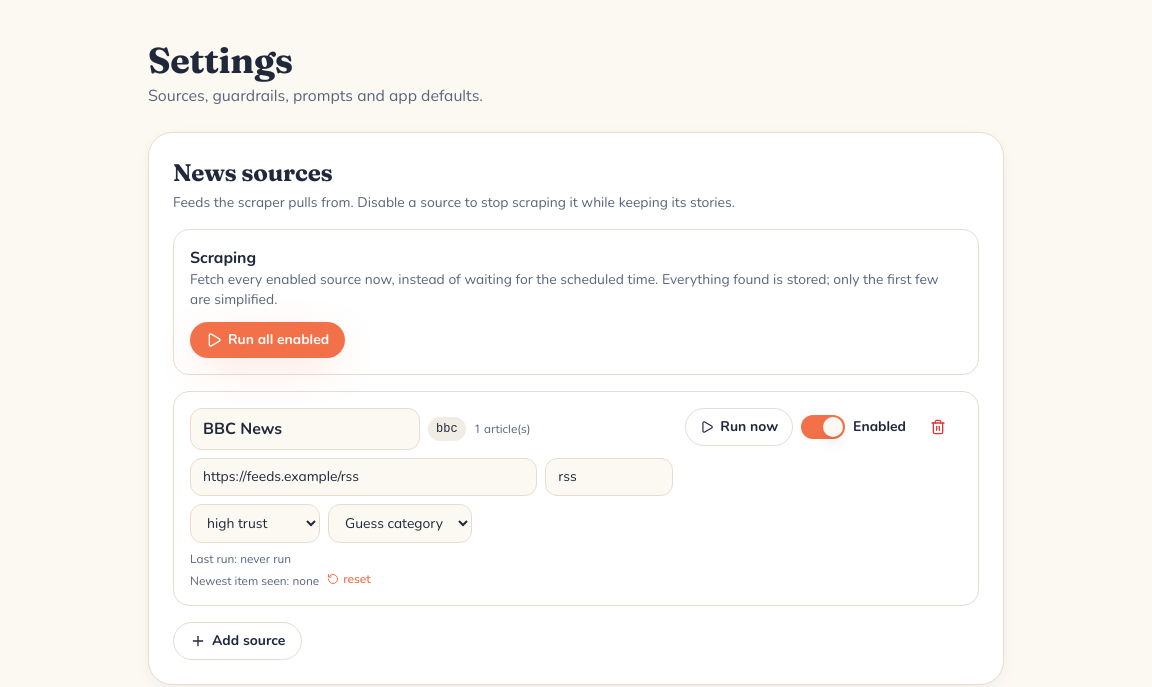
Scenario: settings, server unreachable › toggling a source reports the failure
This screenshot has width=1152, height=687.
Check: the field showing "BBC News" is shown, box top-left (190, 408), bottom-right (420, 450)
Click the switch named "Enable BBC News" at (823, 427), box top-left (801, 415), bottom-right (845, 439)
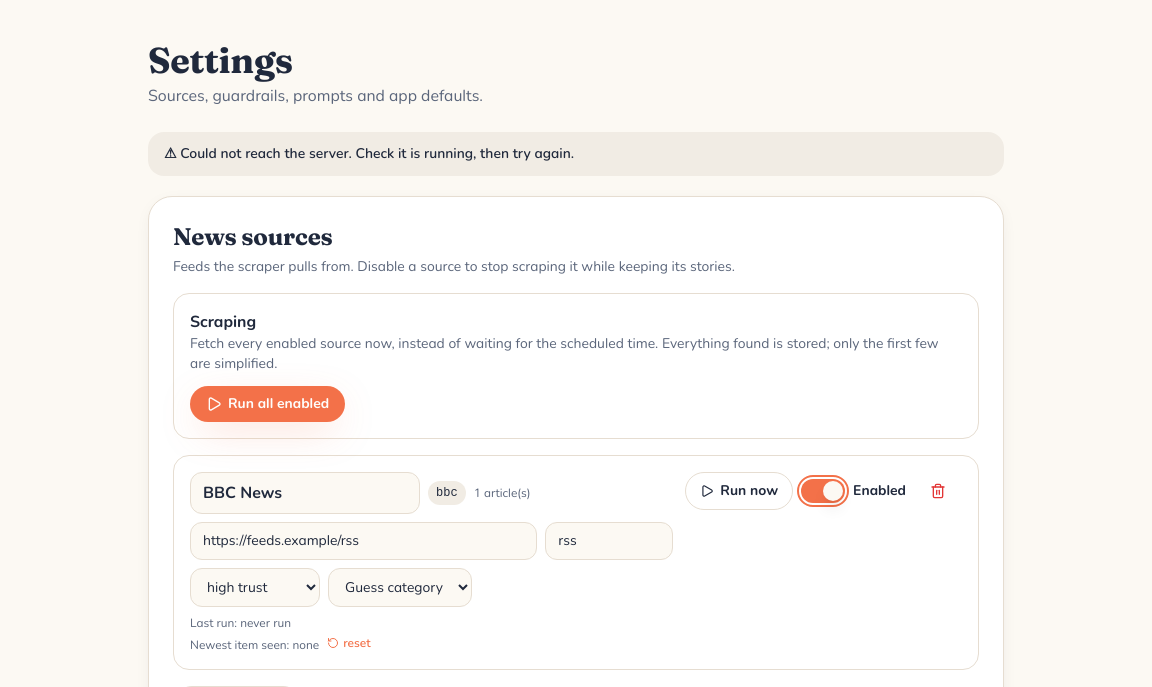
Check: the text "⚠ Could not reach the server. Check it is running, then try again." is shown, box top-left (148, 132), bottom-right (1004, 176)
